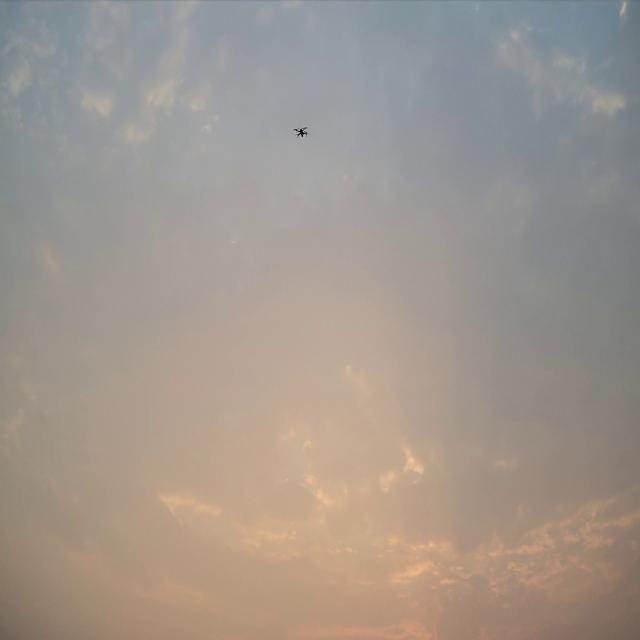drone: (293, 126, 309, 138)
